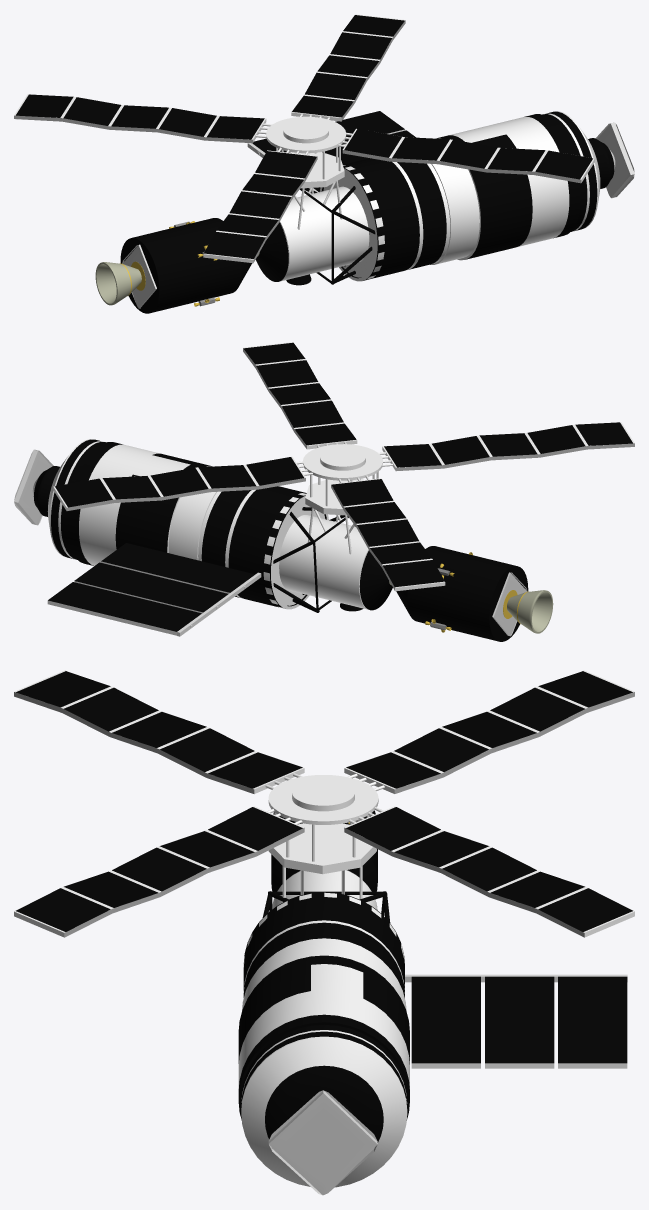
The model's file is Skylab.glb.
3 renders of one model, top to bottom at view 1: azimuth 30°, elevation 25°; view 2: azimuth 150°, elevation 25°; view 3: azimuth 270°, elevation 25°, orthographic. The views are drawn at different scales.
Visible parts, largest first — view 1: polySurfac; view 2: polySurfac; view 3: polySurfac.
Boxes of the visible parts, bbox=[...] form: polySurfac: bbox=[14, 14, 634, 313]; polySurfac: bbox=[14, 342, 634, 641]; polySurfac: bbox=[14, 670, 634, 1195].
Size of the model in its own units: 38.74 by 11.78 by 29.85.
